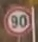limite 90: (2, 5, 34, 35)
